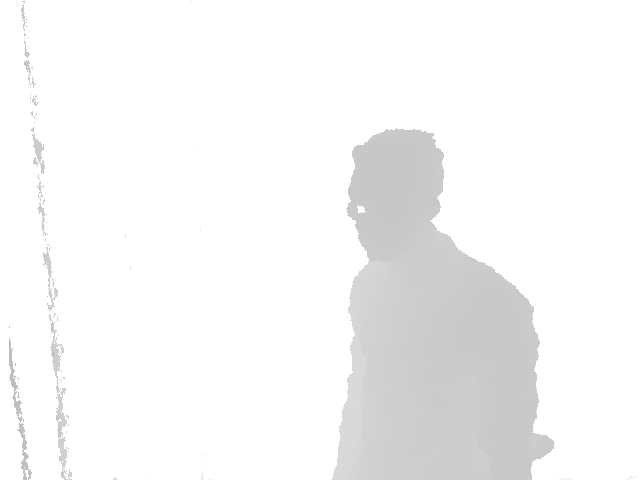head: (346, 129, 445, 264)
person: (329, 129, 556, 480)
